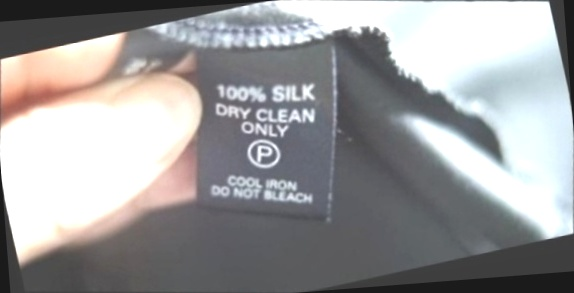dry_clean_any_solvent_except_trichloroethylene: (237, 126, 293, 180)
